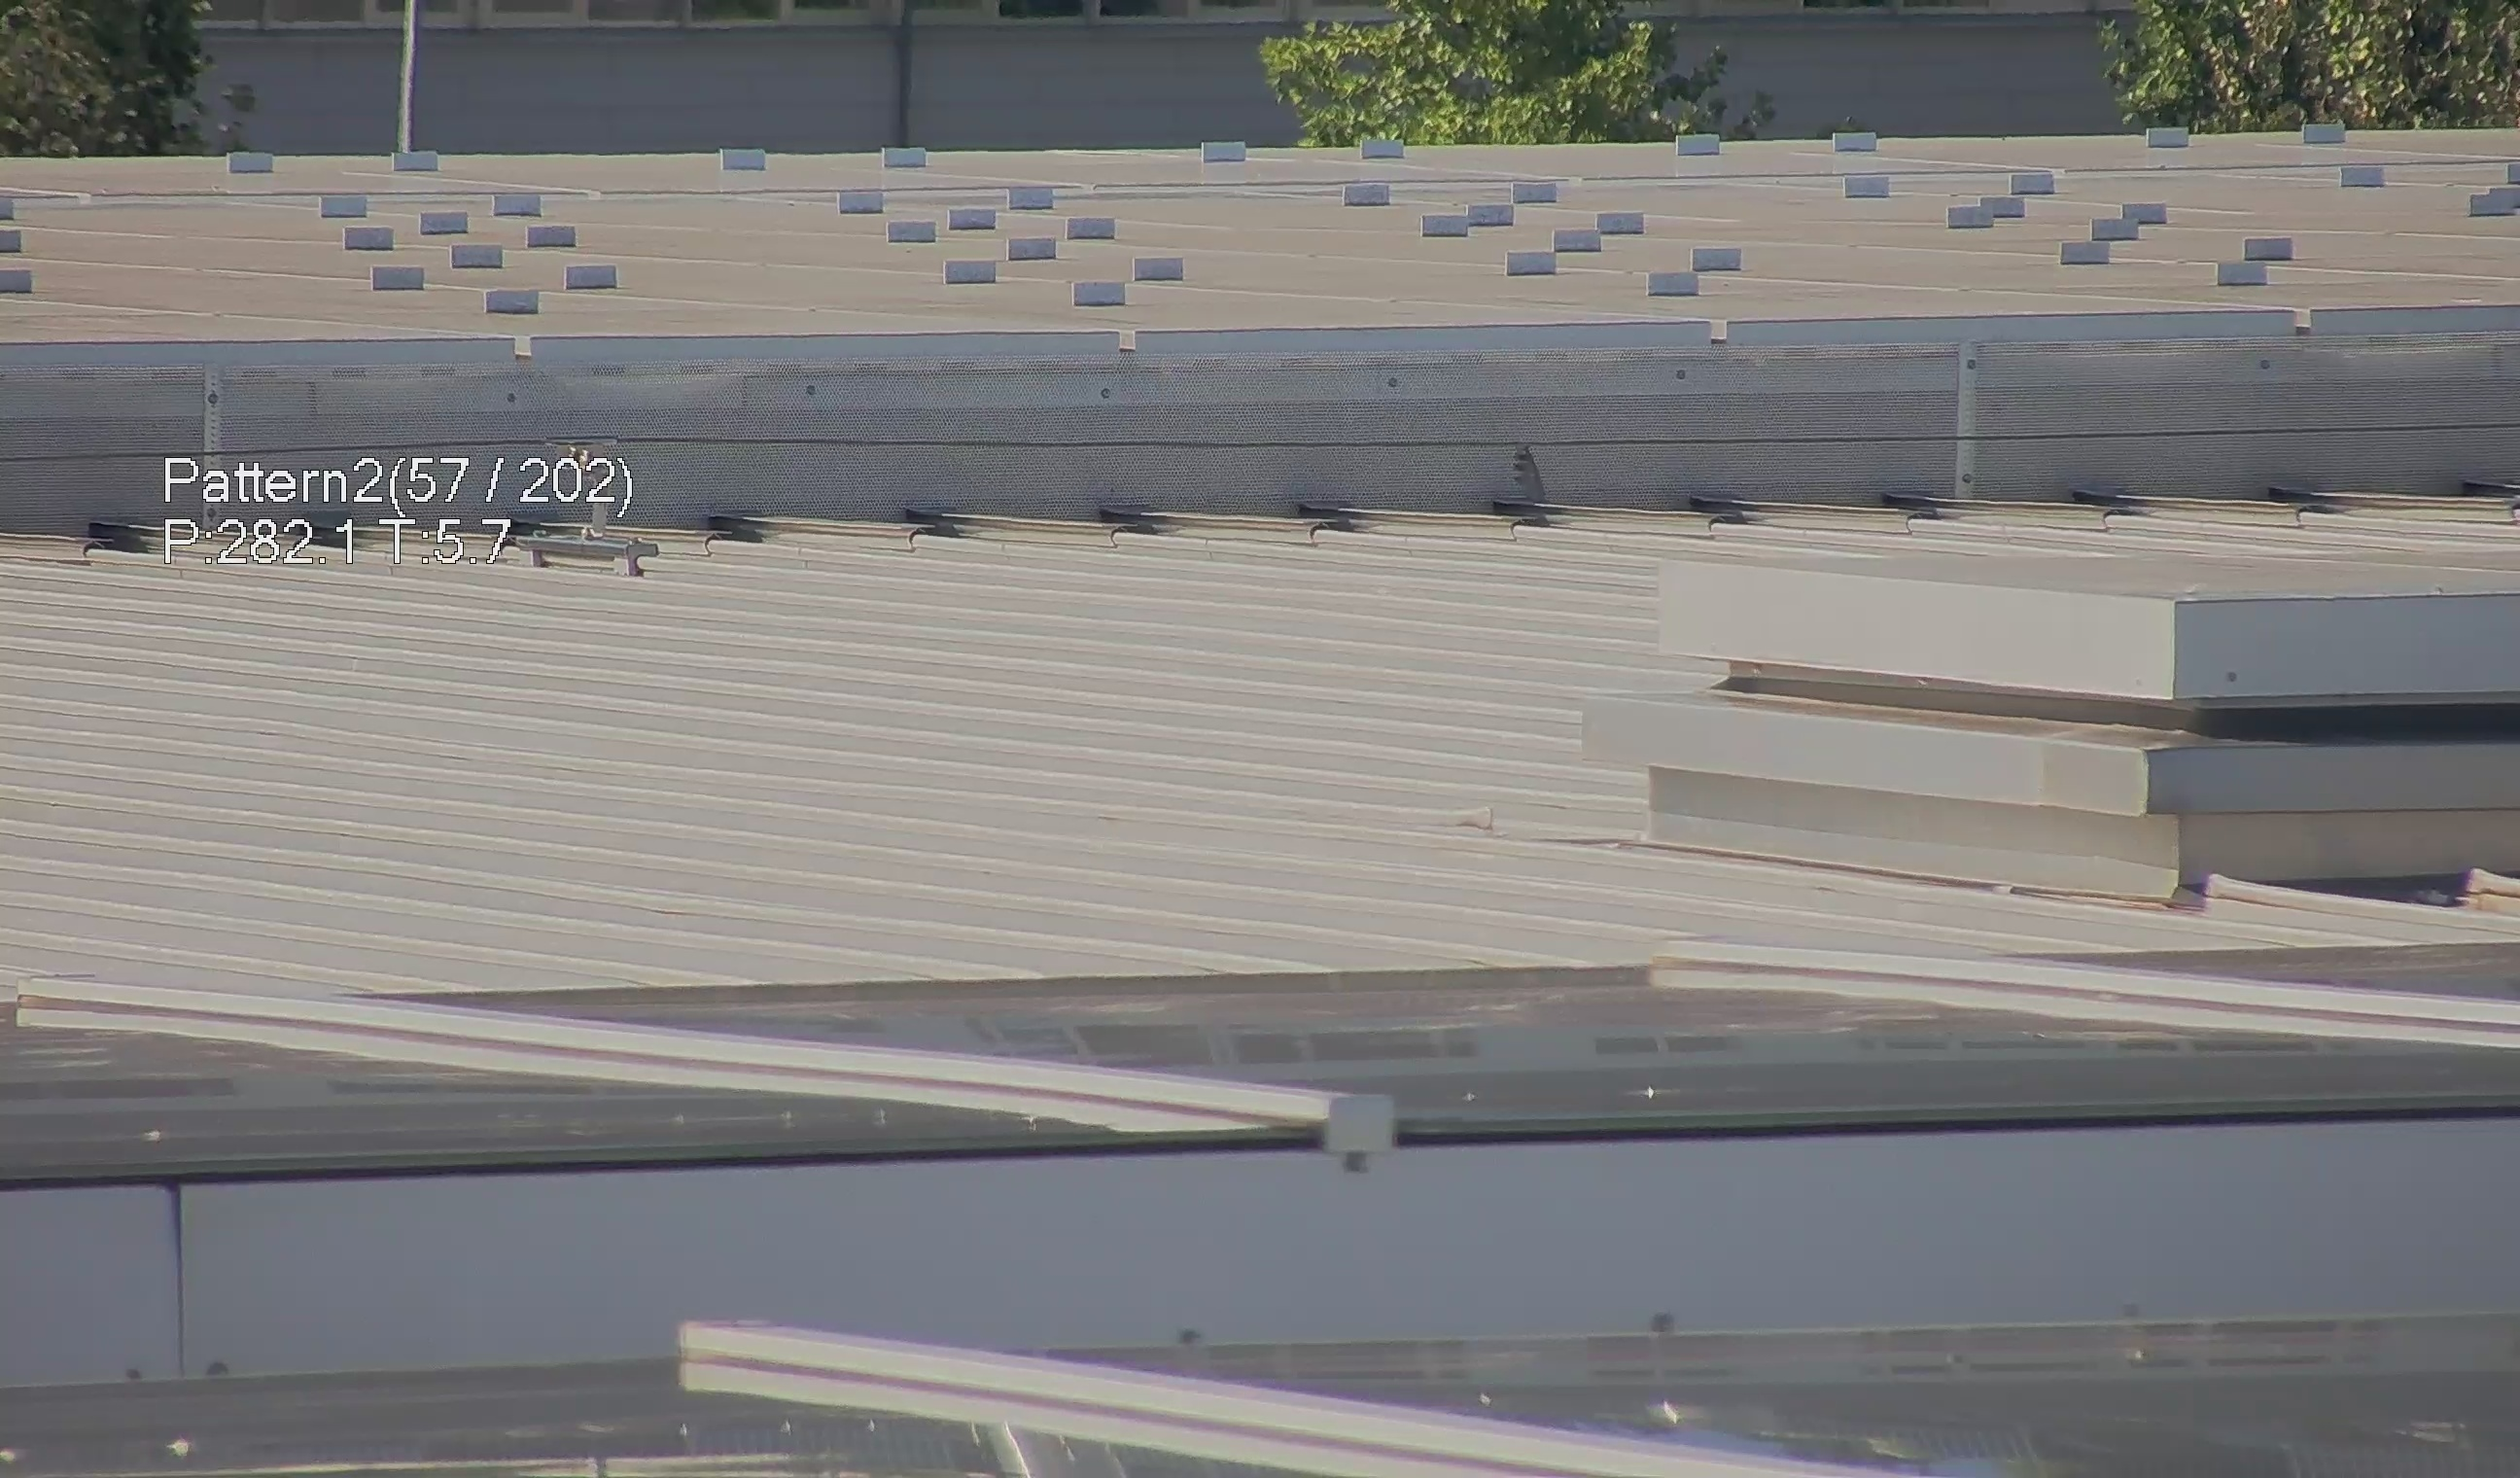Other: (1493, 426, 1565, 531)
